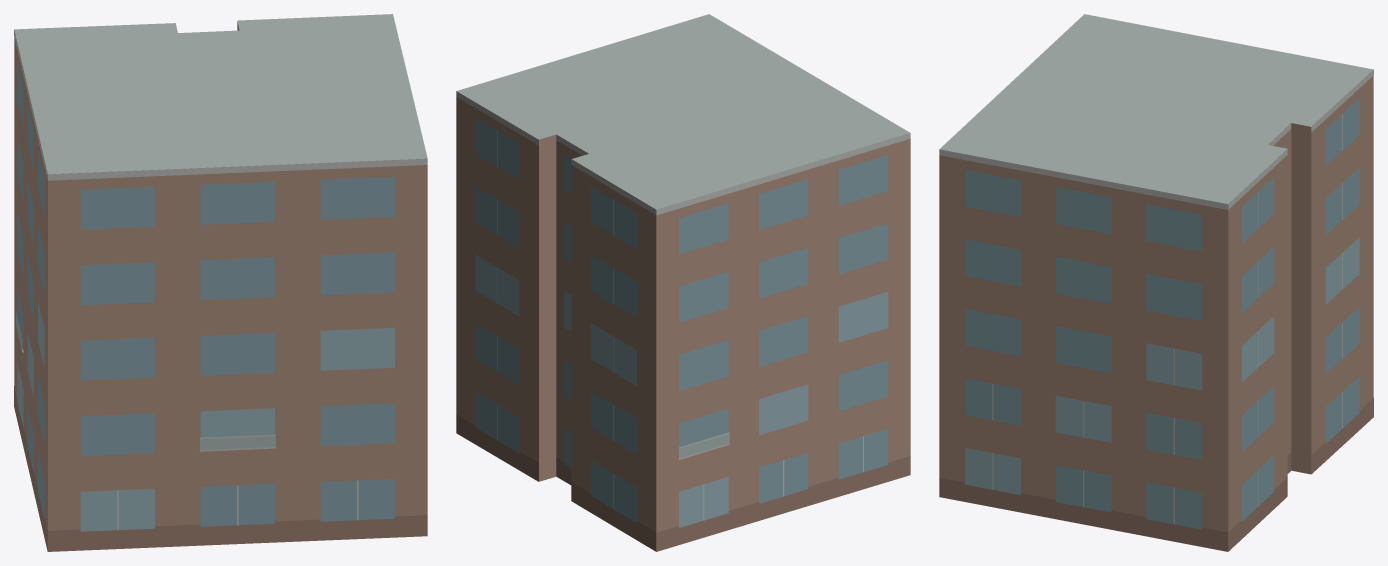
File: survey-upis-32672105.glb
3 renders of one model, left to right at view 1: azimuth 30°, elevation 25°; view 2: azimuth 150°, elevation 25°; view 3: azimuth 270°, elevation 25°, orthographic. The views are drawn at different scales.
Parts seen in each view (by area): view 1: survey-upis-32672105.tmp; view 2: survey-upis-32672105.tmp; view 3: survey-upis-32672105.tmp.
Part boxes in pixels (left/top/right/bottom): survey-upis-32672105.tmp: left=14, top=14, right=427, bottom=551; survey-upis-32672105.tmp: left=456, top=14, right=910, bottom=551; survey-upis-32672105.tmp: left=939, top=14, right=1373, bottom=551.
Bounding box in the file's own units: 17.08 × 14.55 × 16.49.
